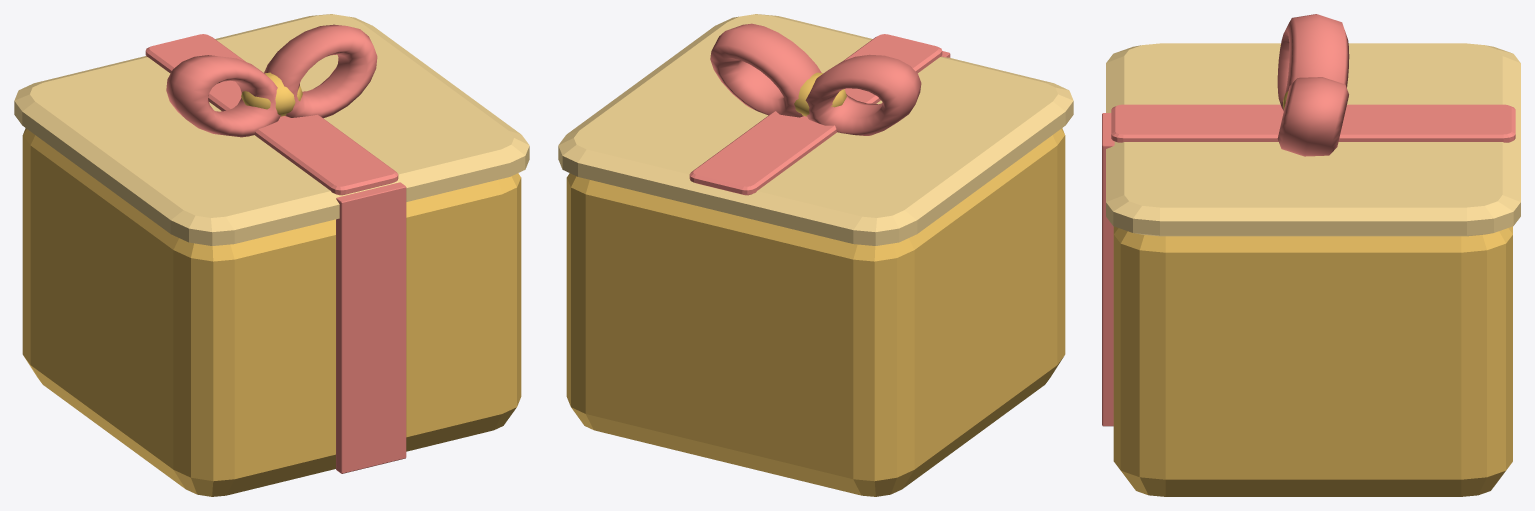
File: birthday_gift.glb
3 views of the same model, side by side, from view 1: azimuth 30°, elevation 25°; view 2: azimuth 150°, elevation 25°; view 3: azimuth 270°, elevation 25° (orthographic). The views are drawn at different scales.
Parts seen in each view (by area): view 1: carton, lid, model, ribbon; view 2: carton, lid, model, ribbon; view 3: carton, lid, ribbon, model.
Boxes of the visible parts, bbox=[...] form: carton: bbox=[22, 128, 521, 496]; lid: bbox=[14, 14, 529, 245]; model: bbox=[166, 24, 406, 473]; ribbon: bbox=[145, 34, 398, 195]; carton: bbox=[566, 128, 1065, 496]; lid: bbox=[558, 14, 1073, 245]; model: bbox=[710, 23, 950, 135]; ribbon: bbox=[689, 34, 942, 195]; carton: bbox=[1113, 226, 1512, 496]; lid: bbox=[1106, 43, 1520, 236]; ribbon: bbox=[1111, 104, 1515, 142]; model: bbox=[1102, 14, 1349, 426].
Bounding box in the file's own units: 0.52 × 0.5 × 0.52.
